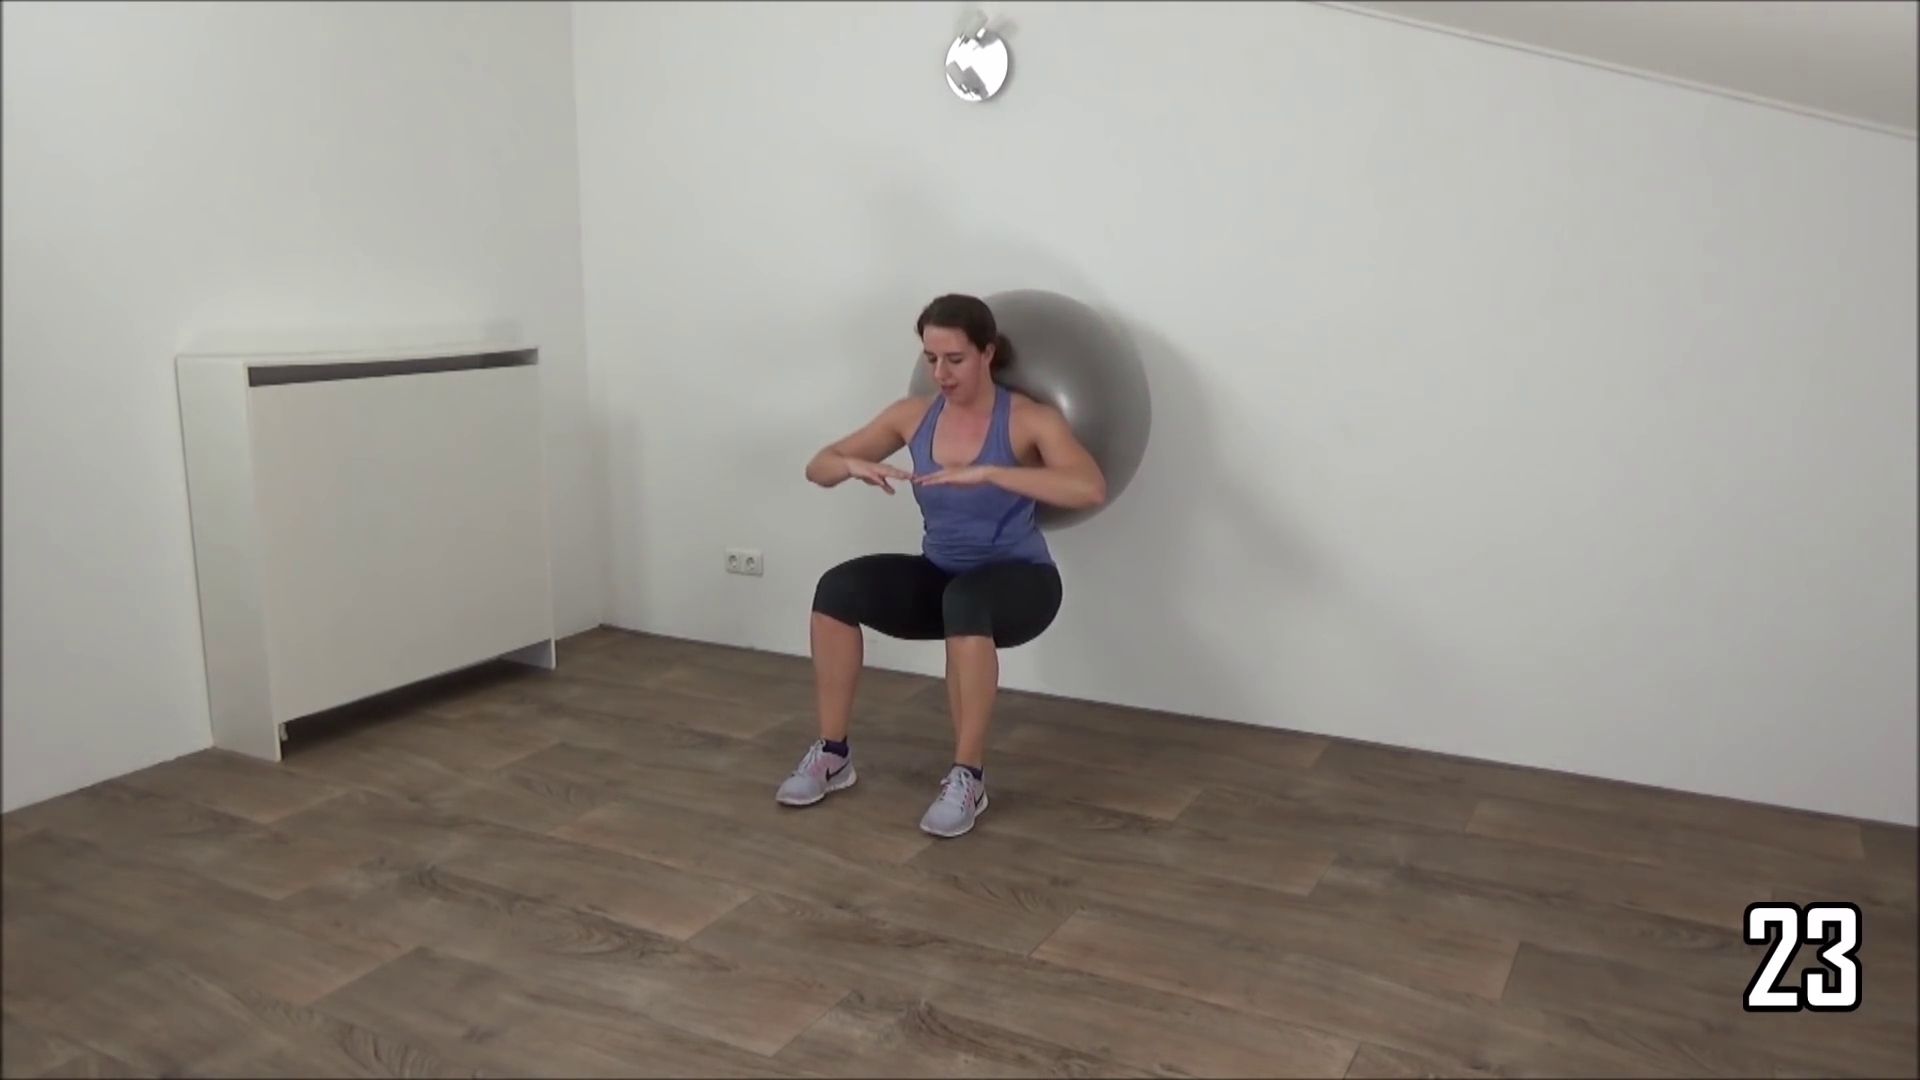yogaball: (909, 289, 1168, 530)
